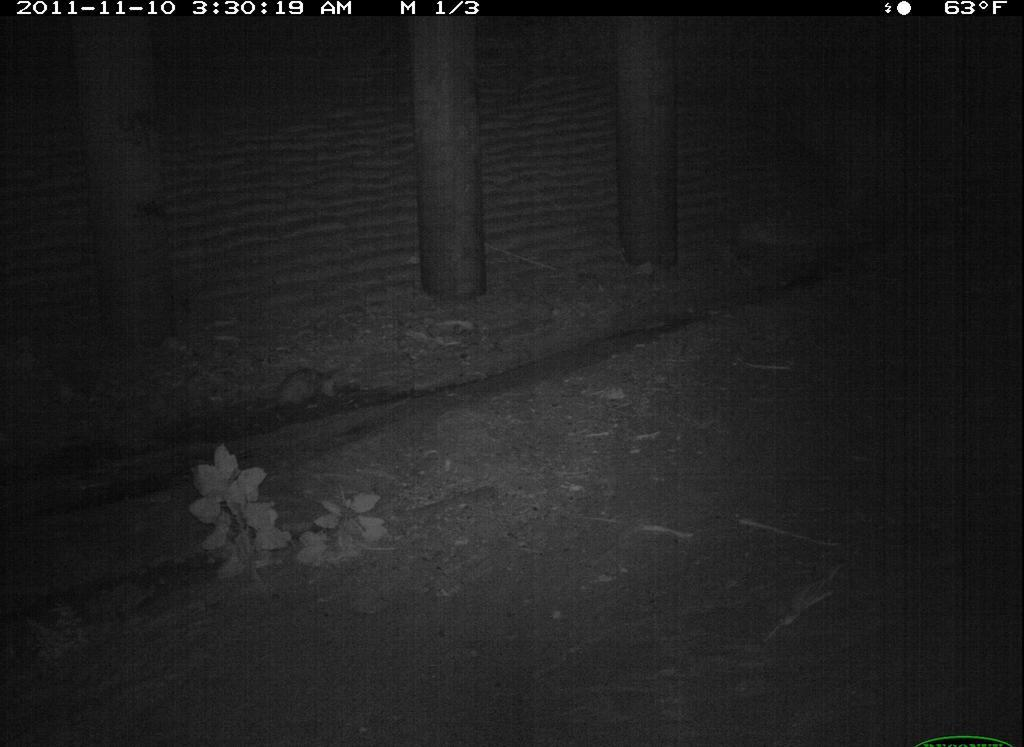opossum: (499, 727, 698, 747)
